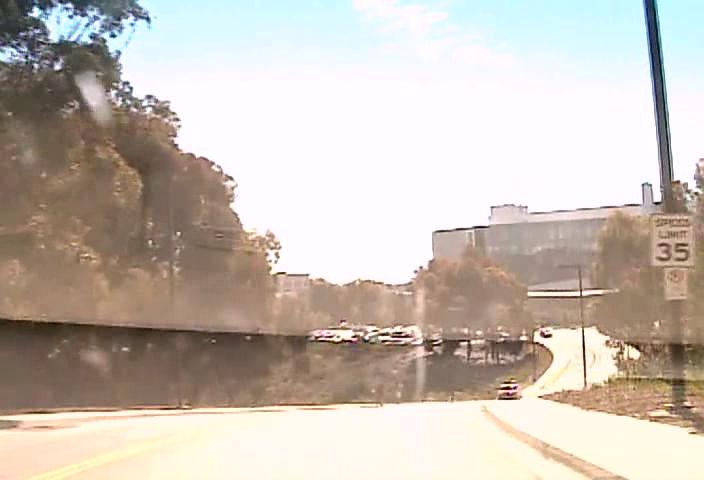speedLimit35: (649, 212, 695, 266)
